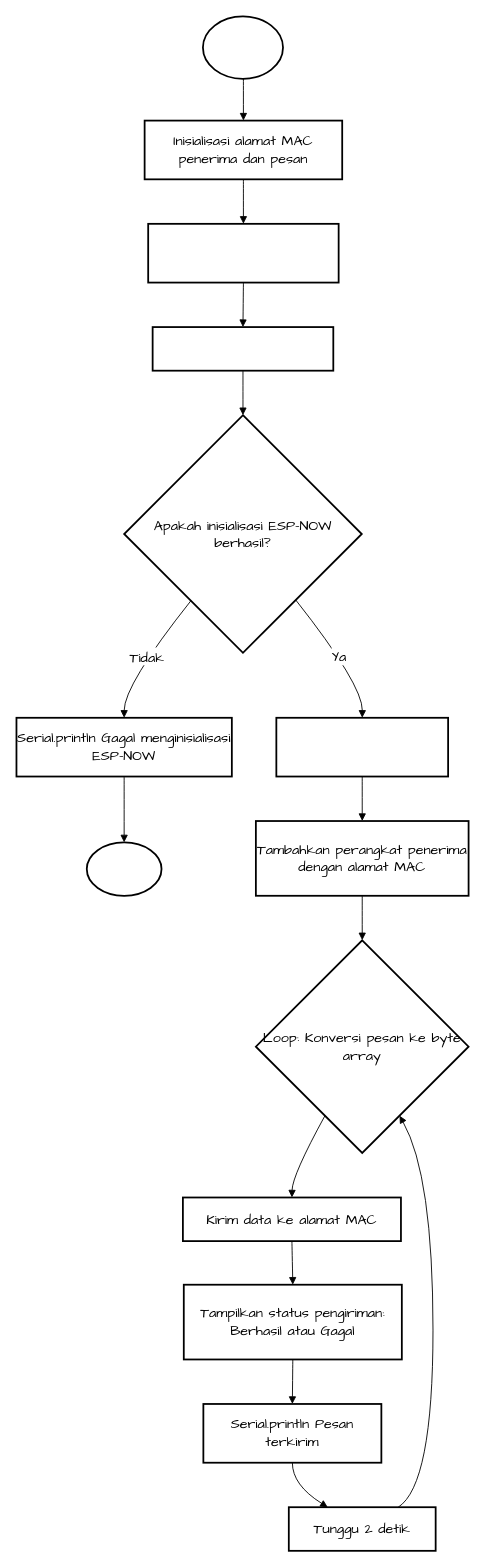
This 484x1566 diagram has some shape labels left out. Here are the shapes that lost their labels. From the top down, the centre of each, then its label:
At [242,47]: "Mulai".
At [243,252]: "Serial.begin 9600 dan WiFi.mode WIFI_STA".
At [242,348]: "Inisialisasi ESP-NOW".
At [362,746]: "Registrasi callback onDataSent".
At [123,868]: "Akhir".
